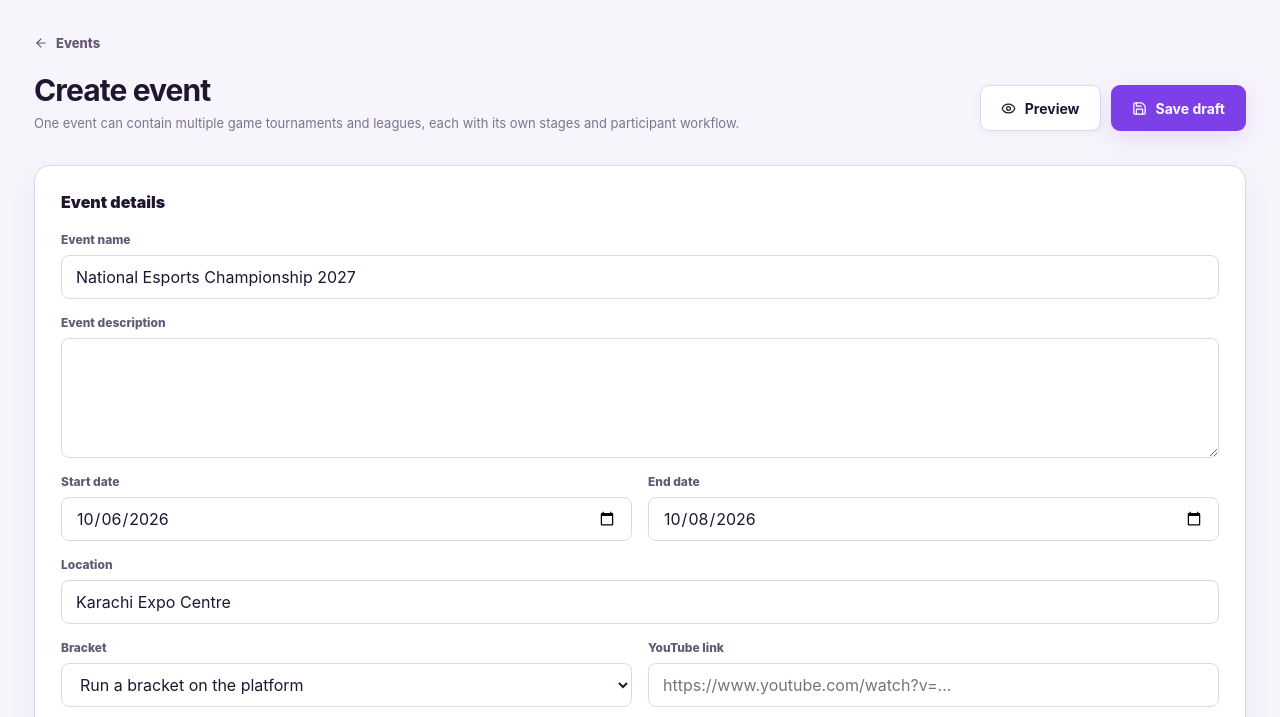
Scenario: TournamentBuilder › rejects a YouTube link that is not a YouTube address
Type "https://example.com/watch?v=abc" into the field labelled "YouTube link".
click(934, 685); type("https://example.com/watch?v=abc")  # box 648,663 -> 1219,707
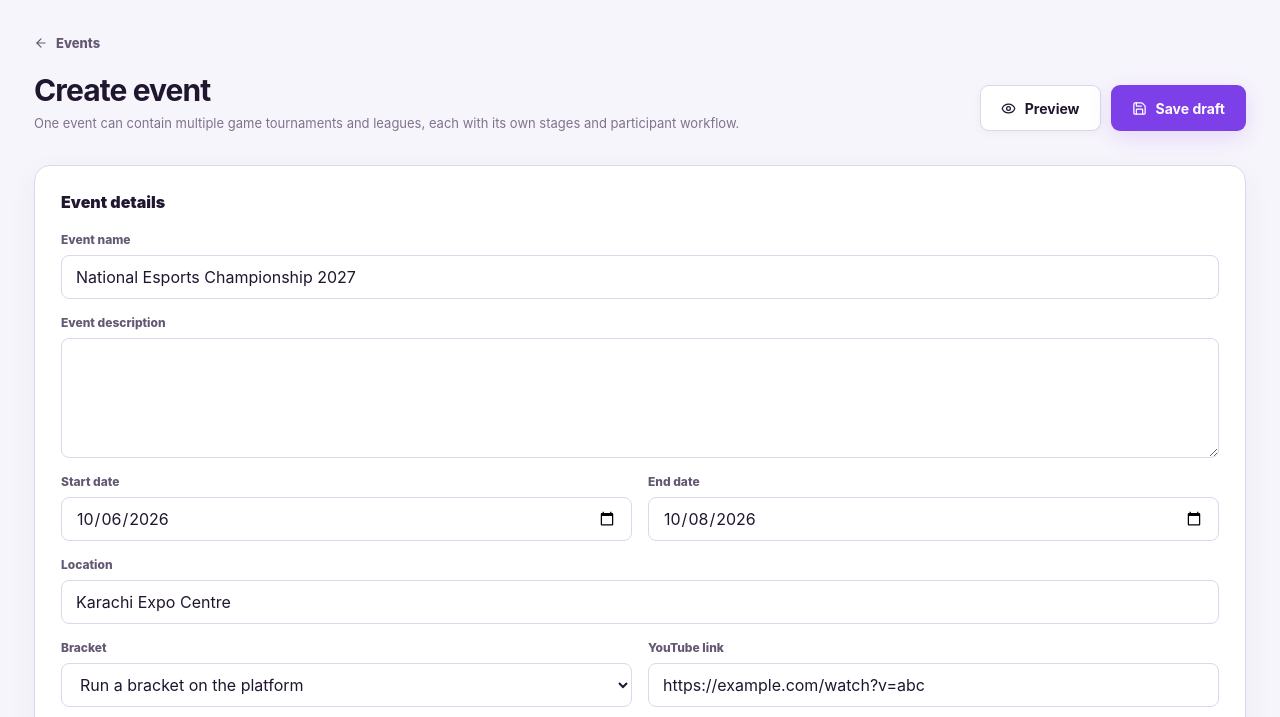
Click the button "Save draft".
click(1178, 108)  # box 1110,85 -> 1246,131
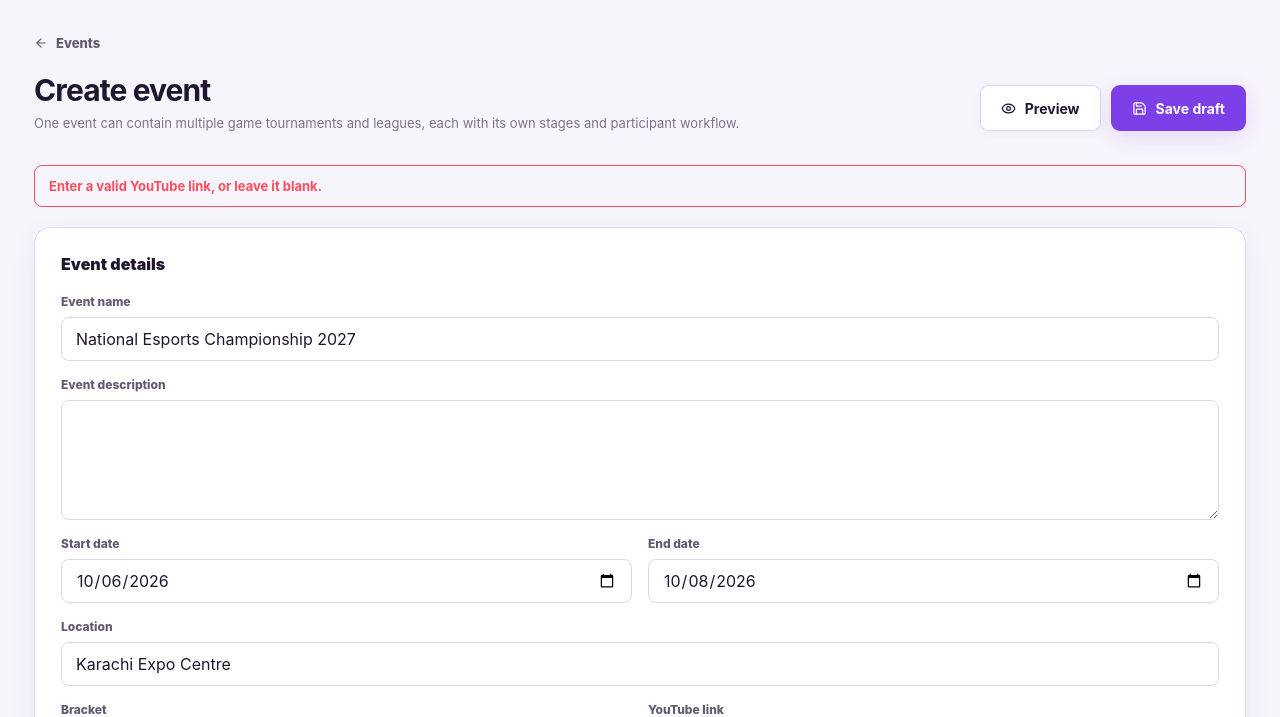
Check: the message shows "Enter a valid YouTube link", box 49,178 -> 322,194
